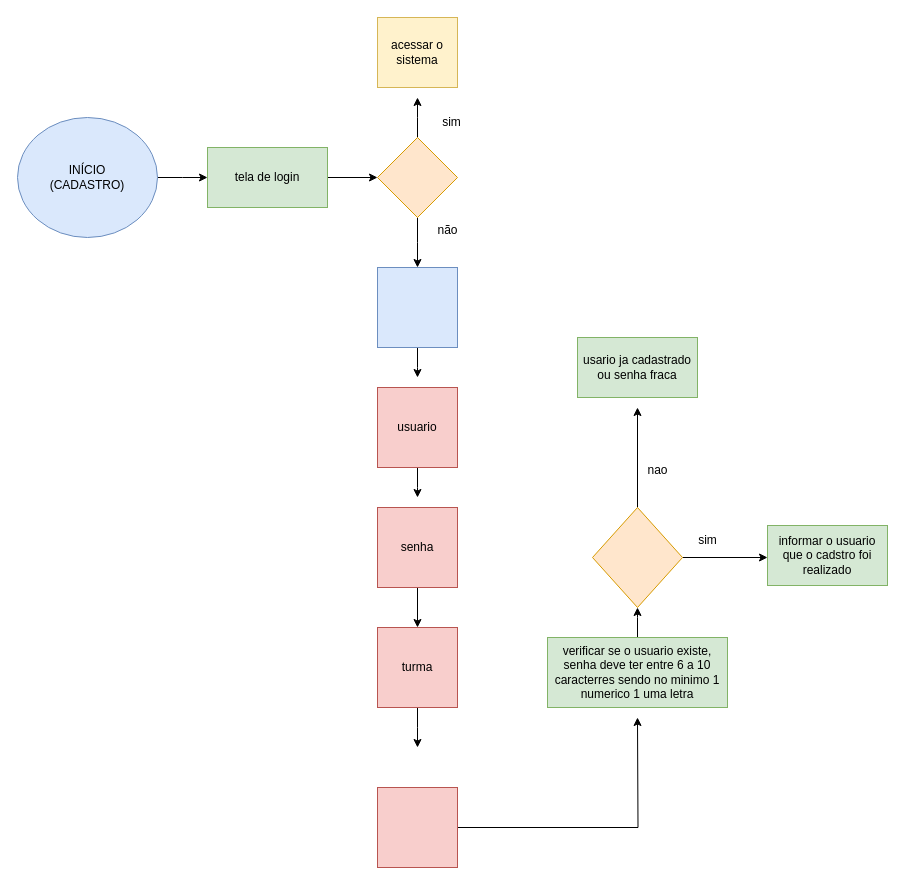
Image size: 905x885. Some labels were removed from this diagram. The shapes that lost their labels are listed below. From the top down, each one's box as (x1, y1, x2, y2) in pixels, then its label:
(376, 136, 458, 218): tem conta?
(376, 266, 458, 348): criar conta
(592, 506, 682, 608): validação de dados
(376, 786, 458, 868): nome completo
